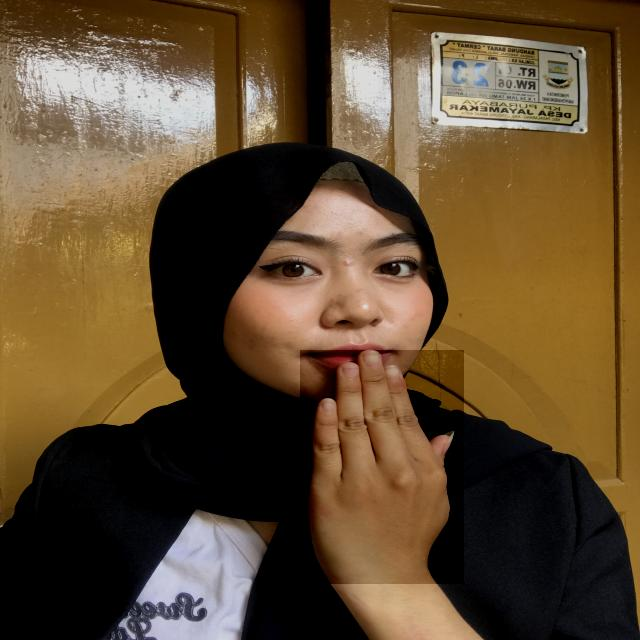ganteng: (300, 350, 464, 584)
